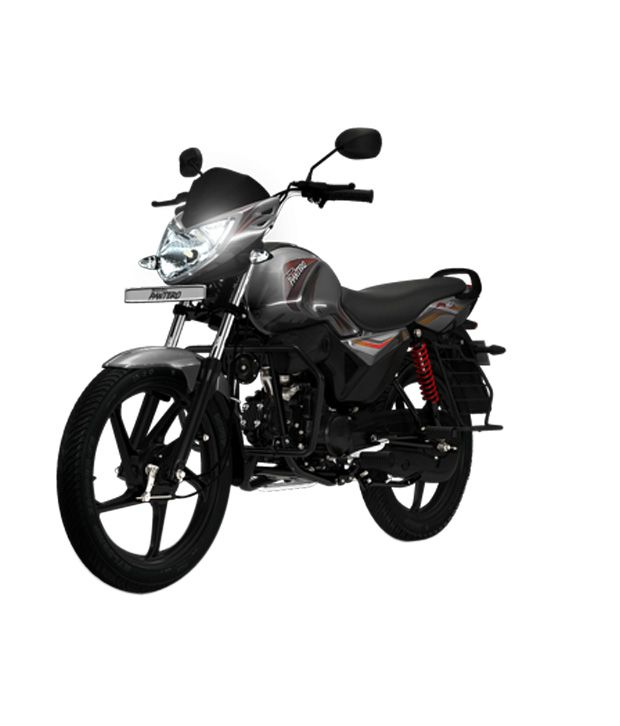Bike: (48, 172, 518, 601)
